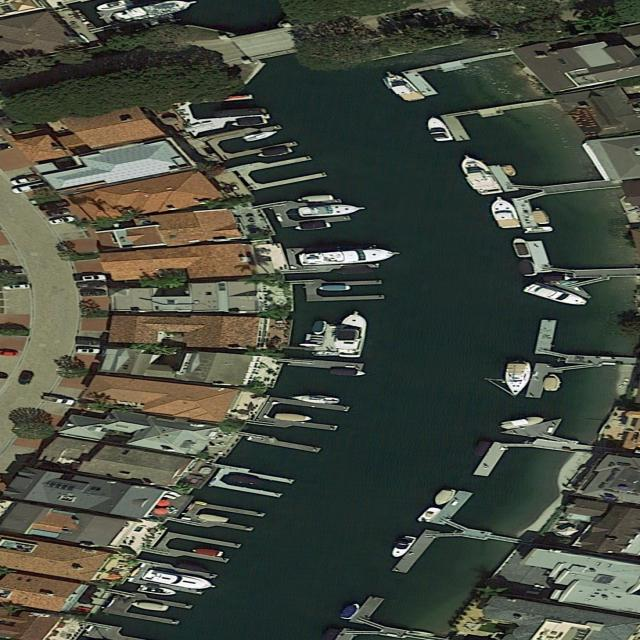ship: (112, 1, 222, 23), (451, 153, 504, 196), (141, 569, 225, 593), (520, 281, 594, 308), (300, 247, 402, 266), (373, 68, 428, 103), (334, 311, 371, 358), (486, 195, 523, 229), (296, 203, 369, 218), (502, 363, 532, 397), (499, 415, 549, 431), (423, 117, 454, 142), (387, 536, 419, 559), (225, 472, 269, 488), (289, 393, 343, 406), (135, 585, 181, 598), (128, 600, 171, 613), (242, 129, 280, 143), (214, 108, 269, 117), (193, 512, 232, 524), (189, 546, 228, 558), (510, 238, 533, 258), (338, 603, 365, 620), (431, 489, 457, 506), (418, 506, 443, 523), (256, 147, 293, 158), (174, 563, 210, 574), (517, 259, 538, 277), (542, 374, 563, 392), (530, 208, 552, 224), (274, 413, 313, 422), (471, 441, 492, 456), (295, 223, 333, 231), (296, 195, 334, 203), (330, 369, 368, 377), (231, 120, 269, 127), (499, 165, 520, 177), (312, 320, 328, 335), (523, 226, 555, 233), (543, 275, 571, 282), (320, 286, 351, 291)
small-vehicle: (10, 182, 52, 194), (36, 199, 73, 212), (39, 396, 75, 407), (10, 175, 41, 186), (45, 207, 74, 218), (73, 273, 106, 282), (15, 372, 36, 386), (74, 281, 107, 289), (49, 216, 77, 225), (74, 339, 102, 347), (3, 283, 30, 291), (80, 290, 109, 297), (76, 347, 102, 354)
